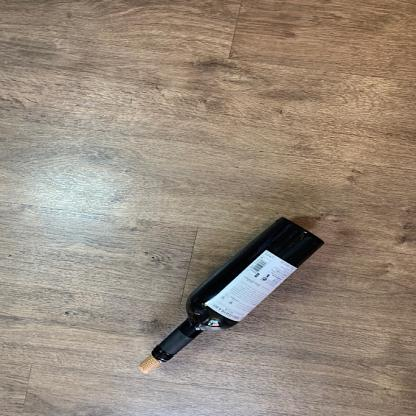trash: (150, 214, 328, 363)
